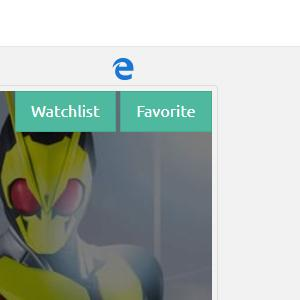edge: (112, 57, 134, 81)
